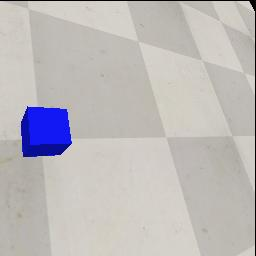box: (21, 106, 72, 157)
